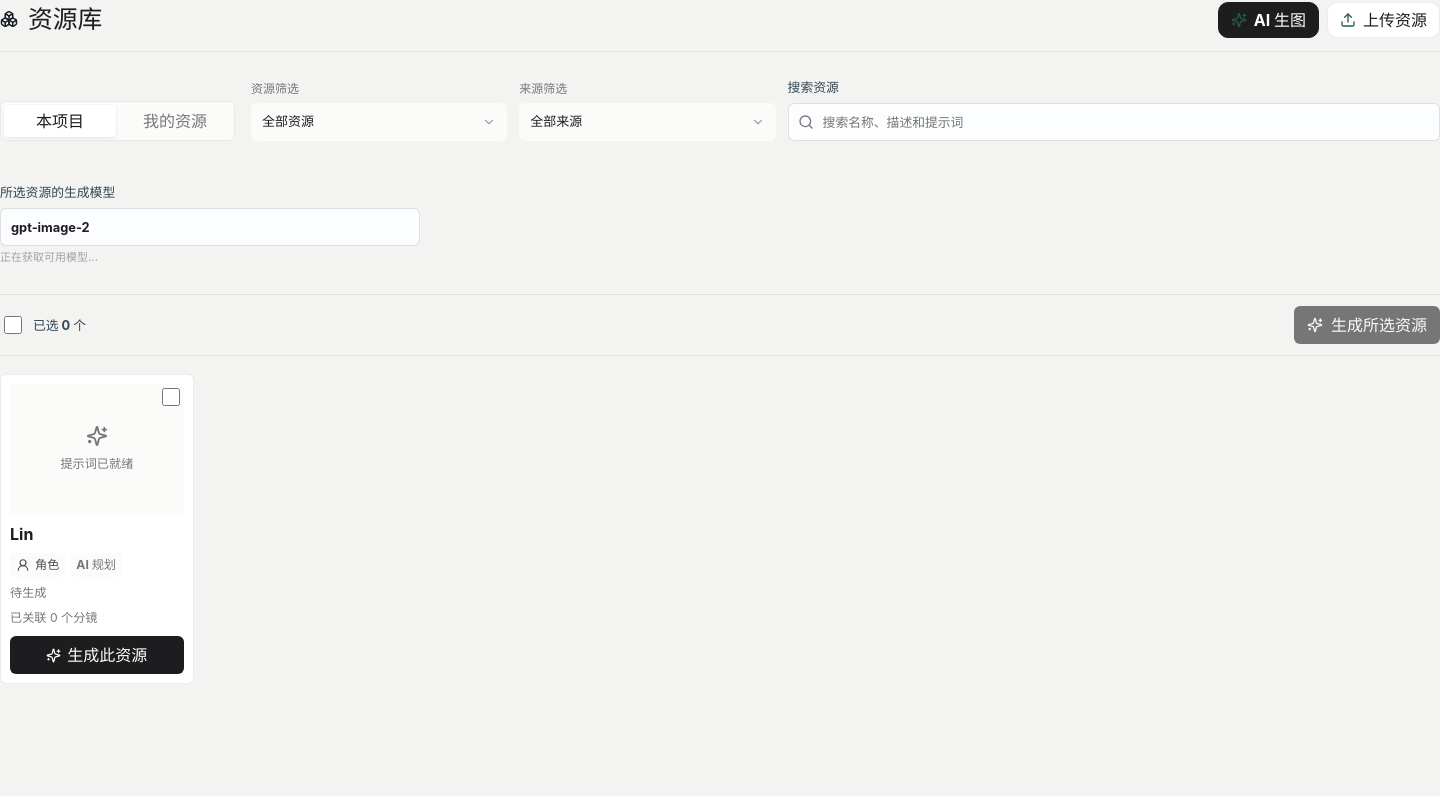
Scenario: ResourceLibraryPage › shows AI-planned resources and prefills the generation drawer
The image size is (1440, 796).
Click the 1st button at (1268, 20), box [1218,2,1319,38]
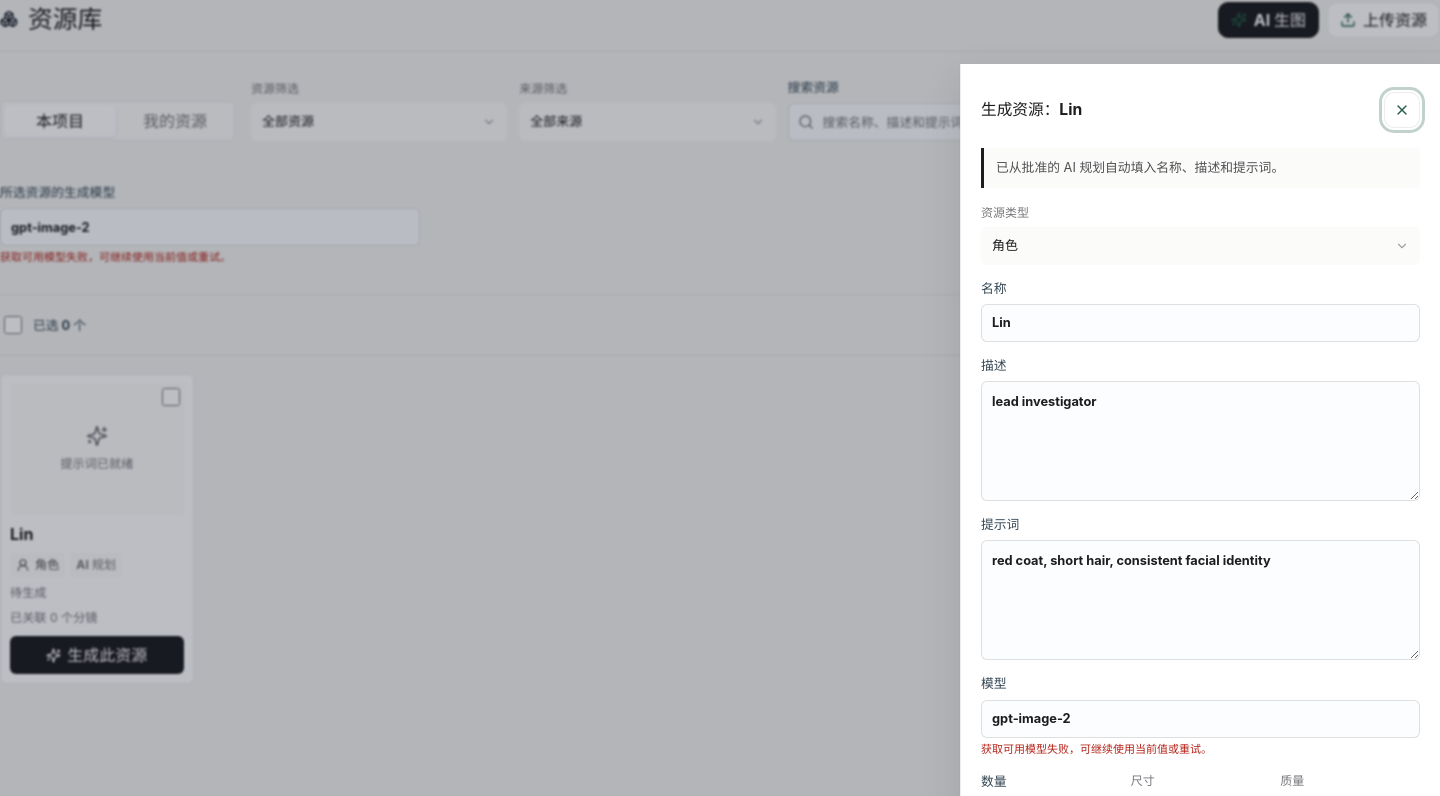
Now the button named "资源类型" reads "角色", box [981,227,1420,265]
Now the field labelled "名称" holds "Lin", box [981,304,1420,342]
Now the text box labelled "描述" holds "lead investigator", box [981,381,1420,501]
